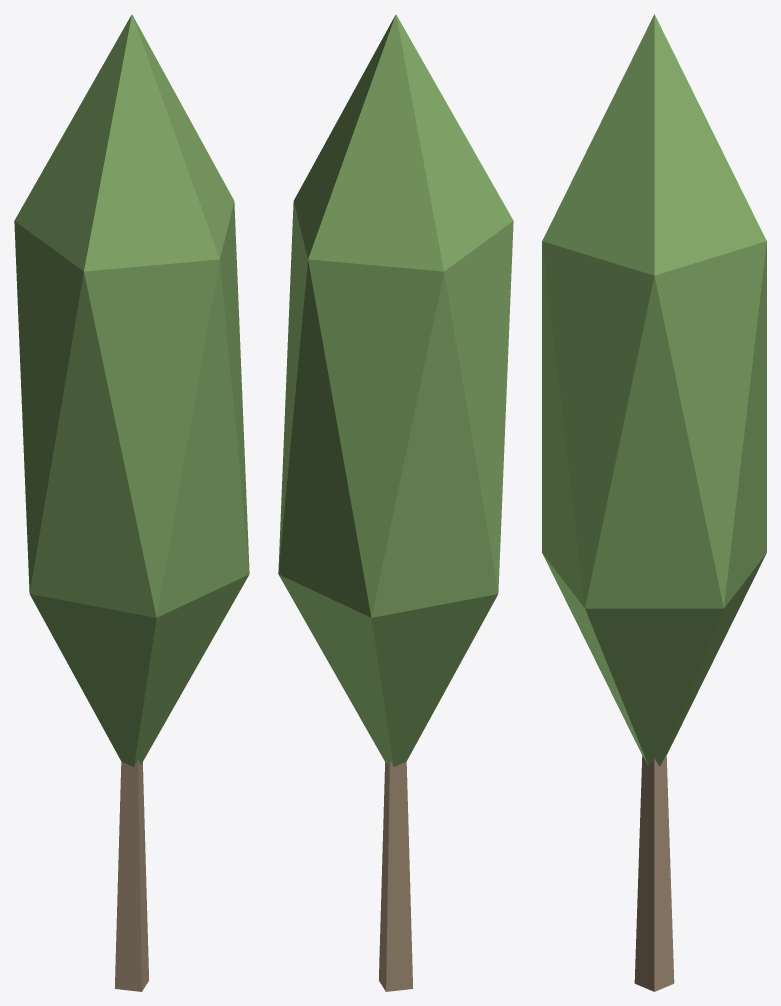
File: poplar_lod.glb
3 views of the same model, side by side, from view 1: azimuth 30°, elevation 25°; view 2: azimuth 150°, elevation 25°; view 3: azimuth 270°, elevation 25° (orthographic).
Visible parts, largest first — view 1: poplar_lod; view 2: poplar_lod; view 3: poplar_lod.
Part boxes in pixels (left/top/right/bottom): poplar_lod: left=14, top=14, right=249, bottom=991; poplar_lod: left=278, top=14, right=513, bottom=991; poplar_lod: left=542, top=14, right=766, bottom=991.
Size of the model in its own units: 3.58 by 16.2 by 3.4.
